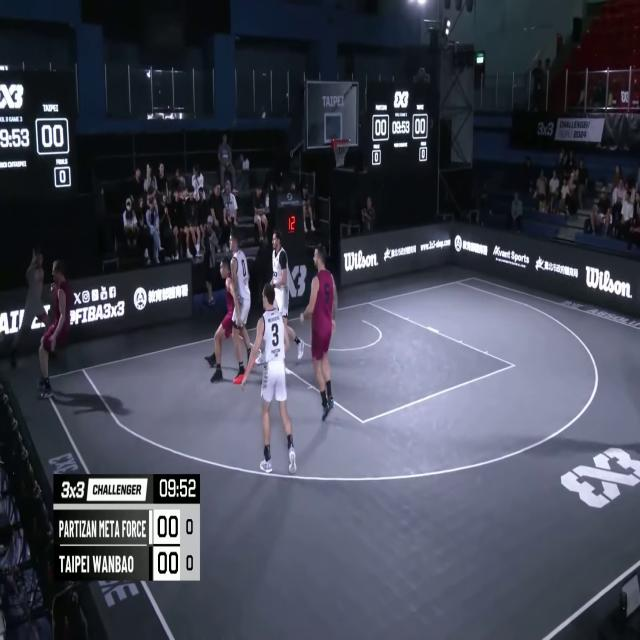hoop: (332, 134, 350, 168)
player: (239, 283, 295, 476), (304, 240, 336, 425), (204, 255, 242, 390), (38, 259, 74, 399), (268, 229, 301, 370), (229, 229, 254, 379)
